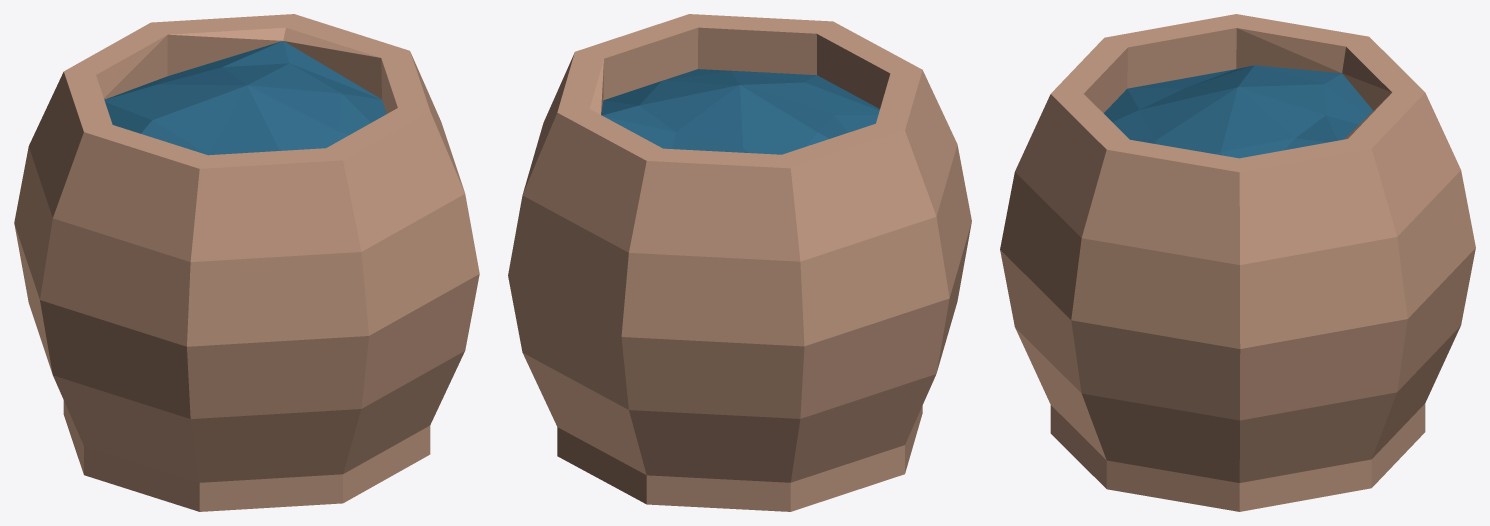
Rendered from Barrel_Open_Spice Asia.fbx.
3 views of the same model, side by side, from view 1: azimuth 30°, elevation 25°; view 2: azimuth 150°, elevation 25°; view 3: azimuth 270°, elevation 25° (orthographic).
Visible parts, largest first — view 1: Barrel_Open_Spice; view 2: Barrel_Open_Spice; view 3: Barrel_Open_Spice.
Boxes of the visible parts, x1=… form: Barrel_Open_Spice: x1=14, y1=14, x2=479, y2=511; Barrel_Open_Spice: x1=508, y1=14, x2=971, y2=511; Barrel_Open_Spice: x1=1000, y1=14, x2=1475, y2=511.
Size of the model in its own units: 0.4306 by 0.345 by 0.4306.
